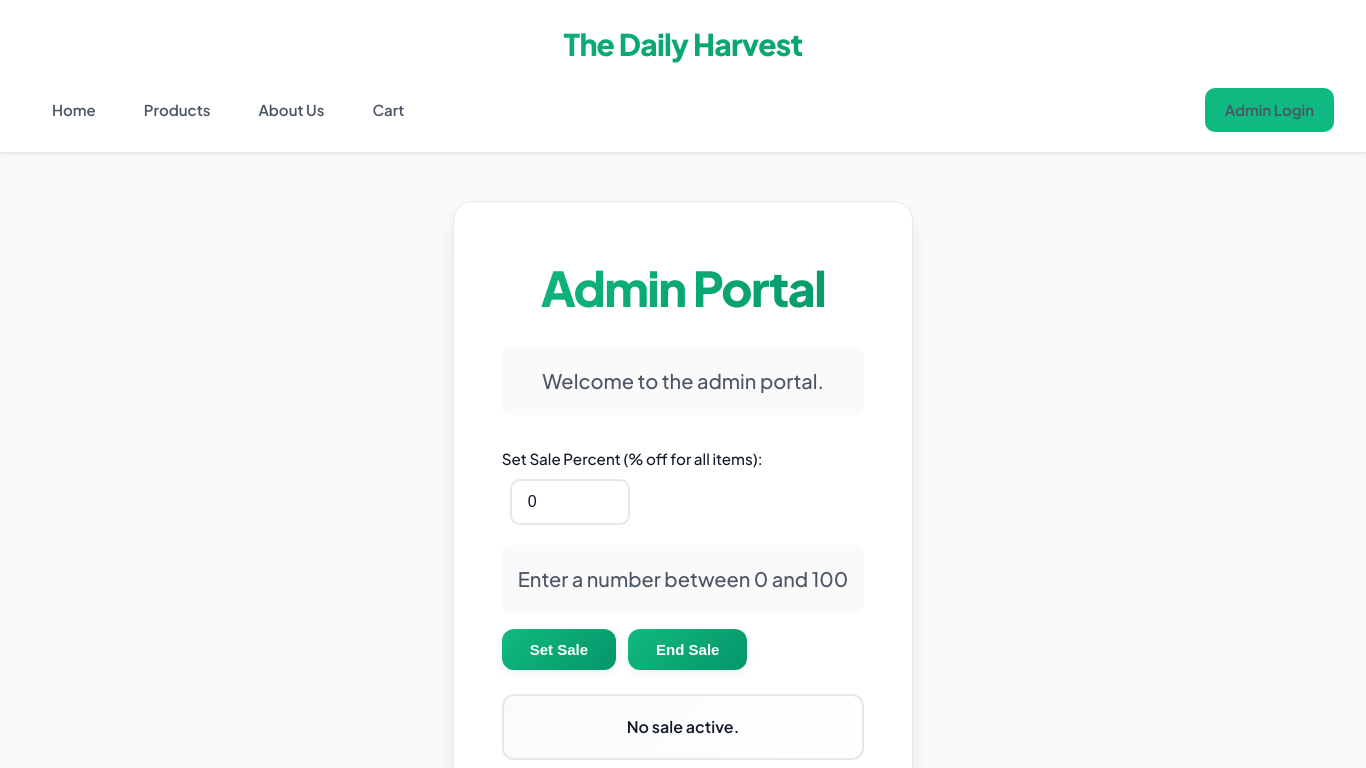
Test: AdminPage › should clear the sale when End Sale button is clicked
// First set a sale
Step 1. Replace the text in the number field labelled "Set Sale Percent (% off for all items):" with "20" → coordinates (570, 502), box [510,479,630,525]
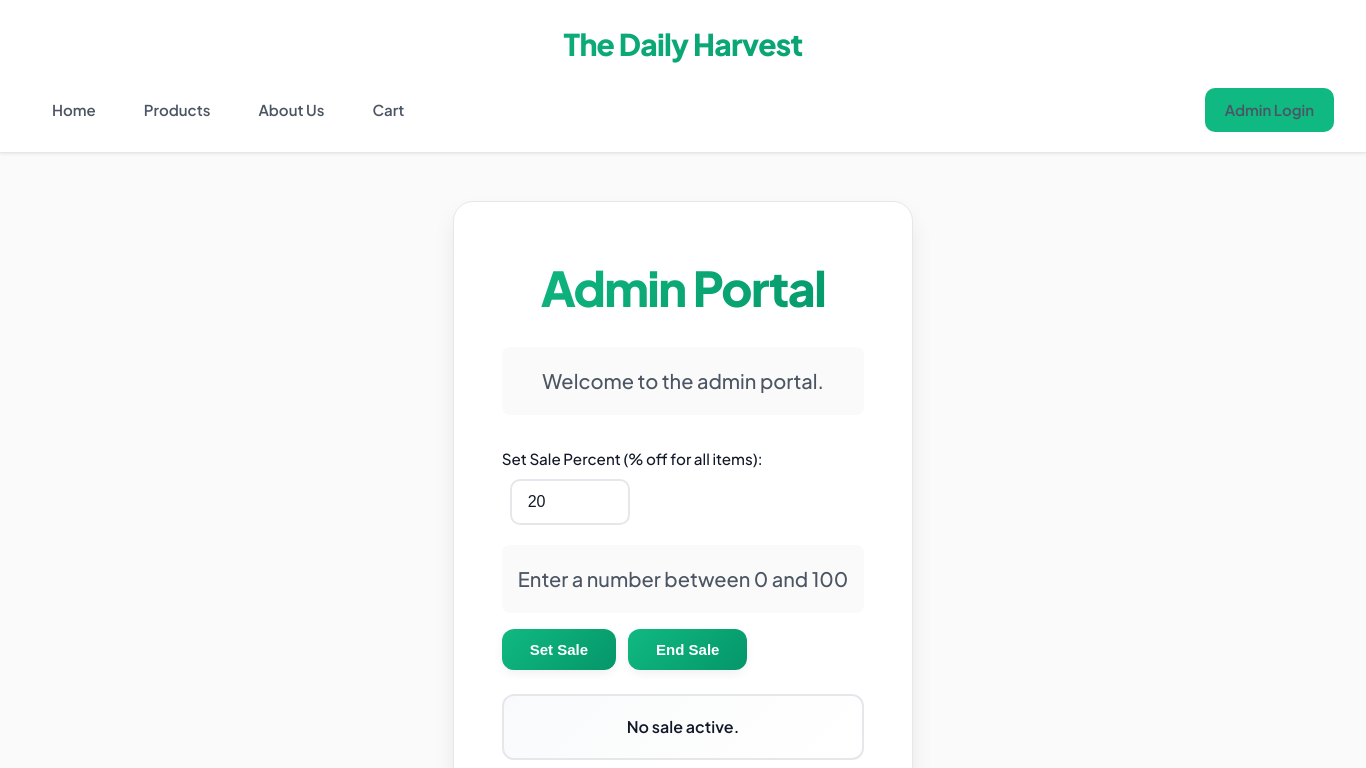
Step 2. Click the button with aria-label "Apply sale percentage" → coordinates (559, 650), box [502,629,616,670]
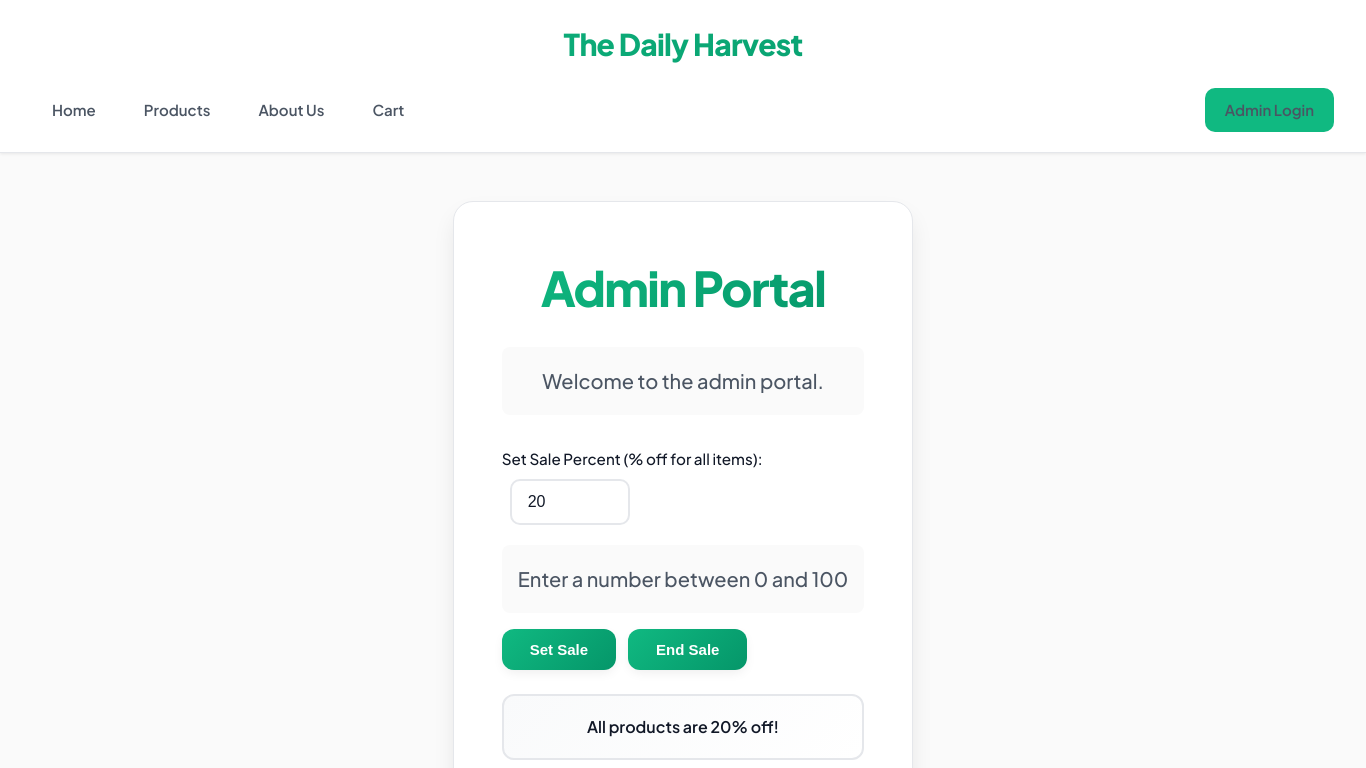
expect the text "All products are 20% off!" is shown: met, box [502,694,864,760]
// Then clear it
Step 3. Click the button with aria-label "Clear sale and set to 0%" → coordinates (688, 650), box [628,629,748,670]
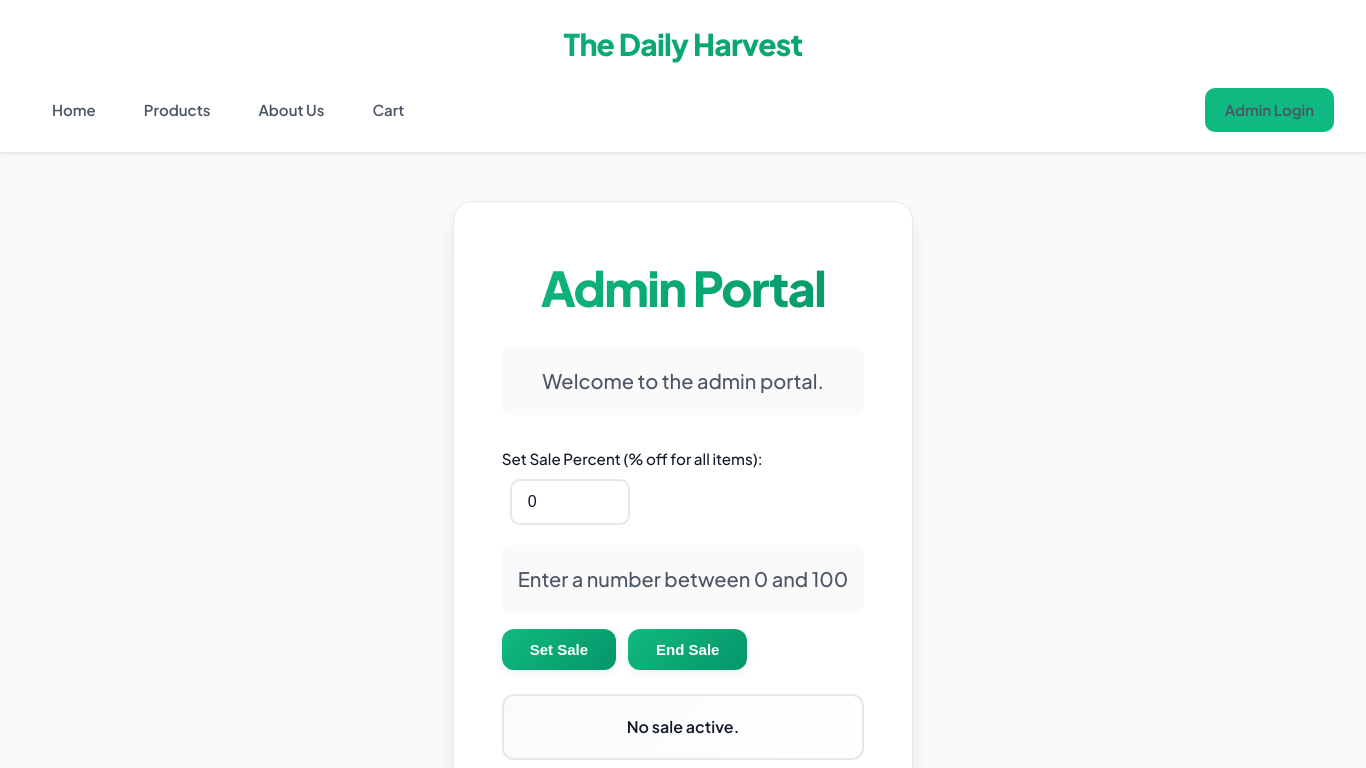
expect the text "No sale active." is shown: met, box [502,694,864,760]
expect the message reads "No sale active.": met, box [627,716,739,737]
